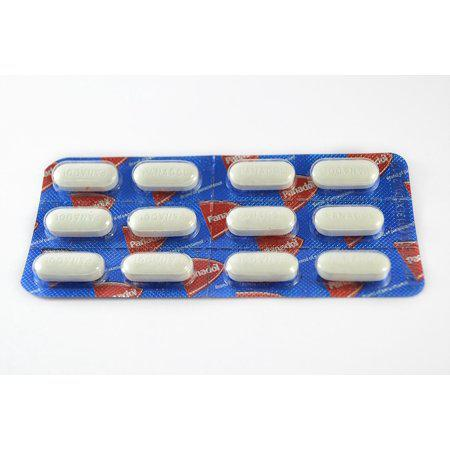tablet: (119, 248, 195, 288), (223, 249, 301, 286), (315, 246, 391, 282), (32, 248, 103, 284), (226, 205, 295, 241), (126, 206, 198, 240), (43, 206, 114, 238), (312, 204, 385, 235), (224, 161, 297, 191), (309, 159, 379, 189), (52, 161, 119, 190), (131, 161, 200, 189)
